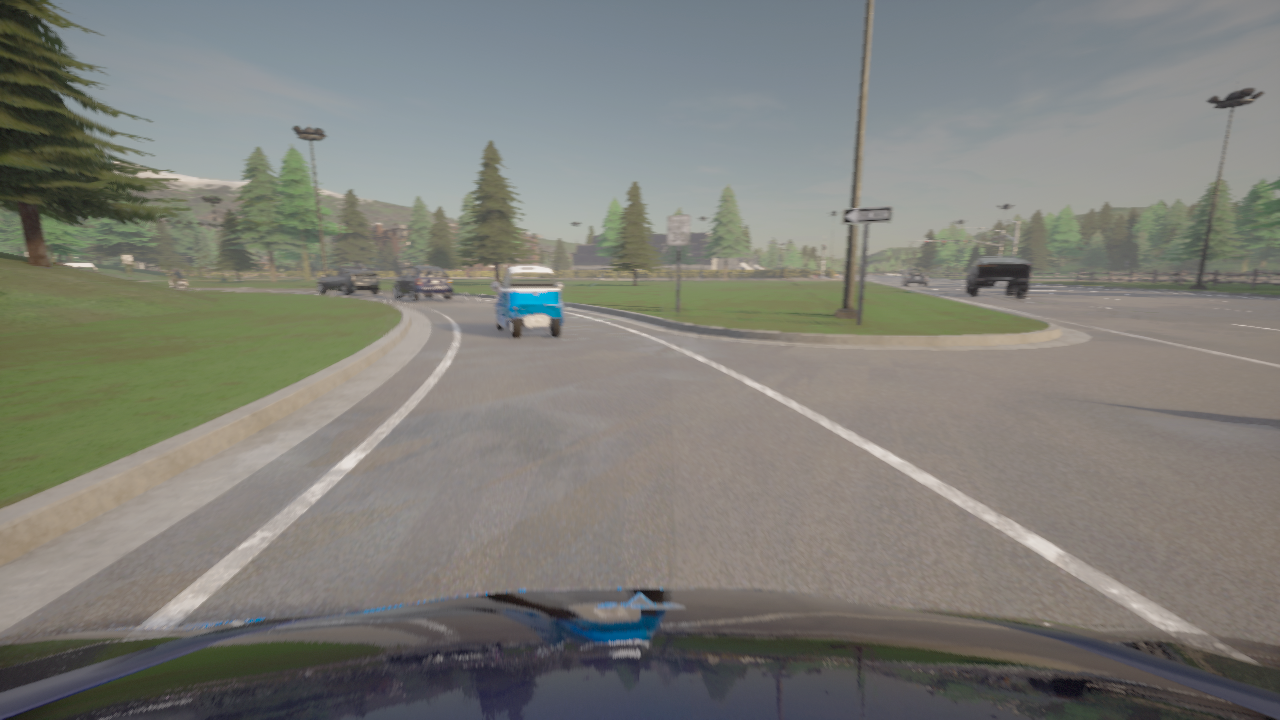cyclist: (0, 588, 1279, 719), (492, 265, 562, 338), (965, 256, 1031, 297), (392, 266, 452, 301), (317, 268, 380, 295), (901, 269, 927, 286), (55, 263, 98, 272), (169, 275, 188, 289)
